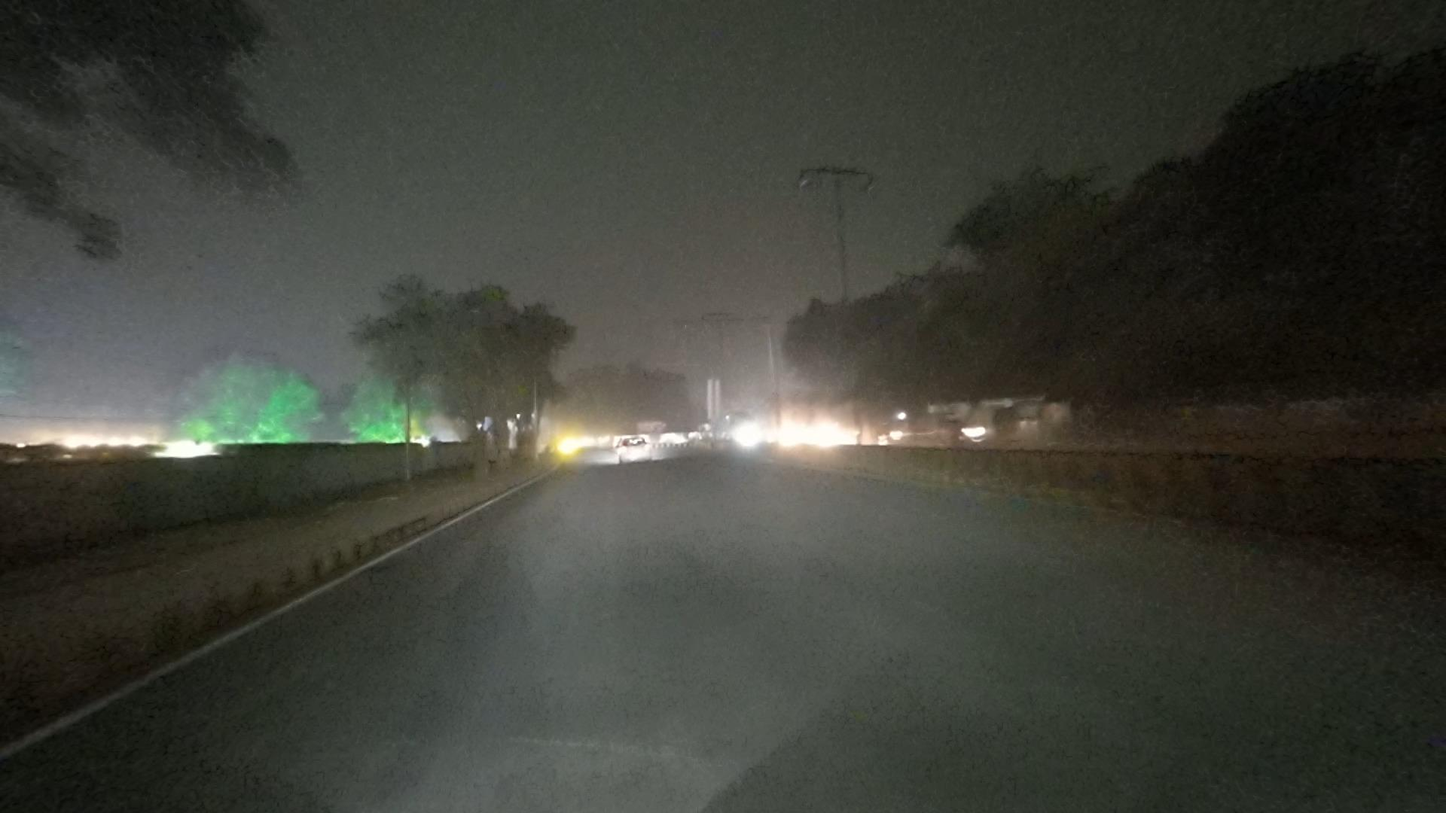streetlight: (841, 166, 876, 193), (795, 166, 833, 189)
